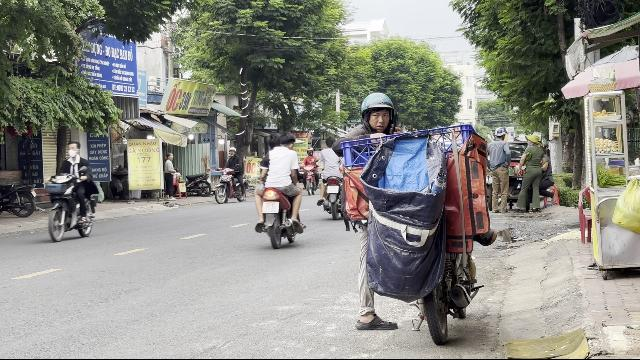licenseplate: (262, 202, 278, 213)
motorcyclist: (252, 131, 306, 248), (42, 140, 98, 242)
nohelmet: (278, 132, 294, 148), (66, 142, 80, 158), (268, 132, 280, 150)
